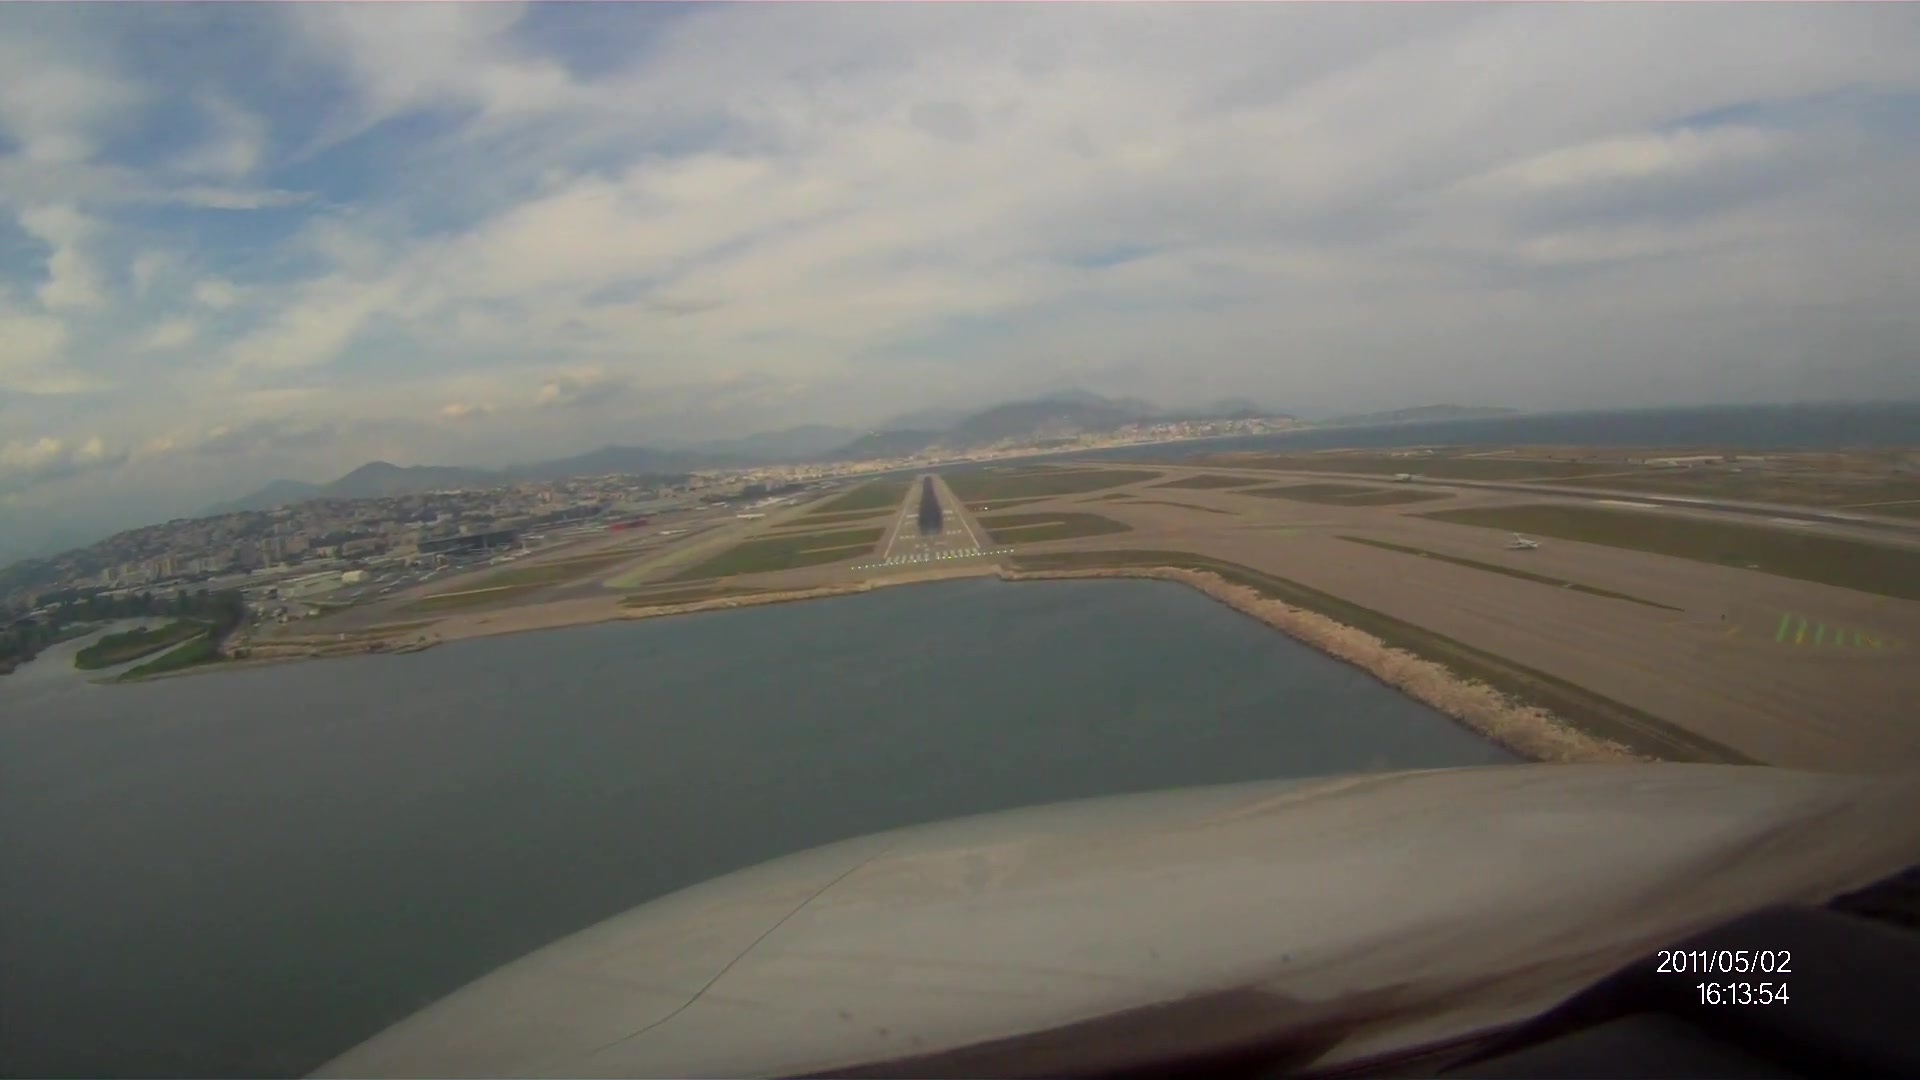entrance: (885, 549, 980, 563)
runway: (866, 473, 1000, 571)
